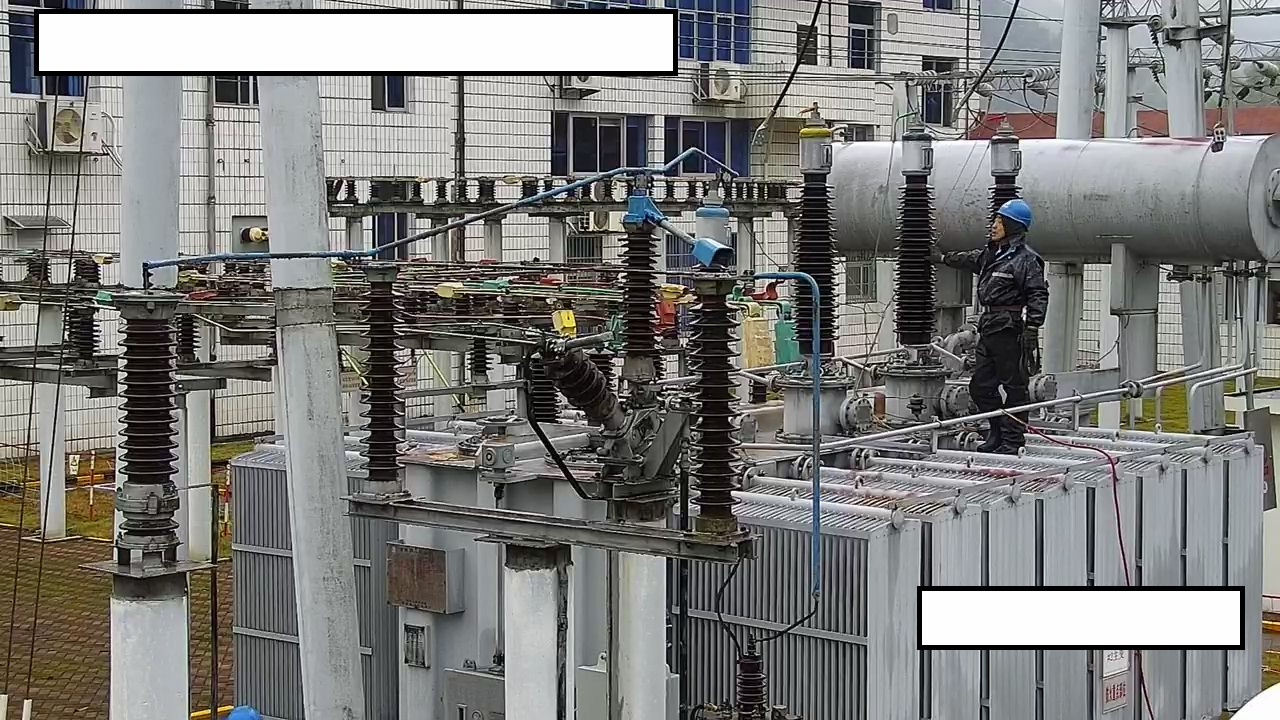hat: (990, 196, 1036, 244)
